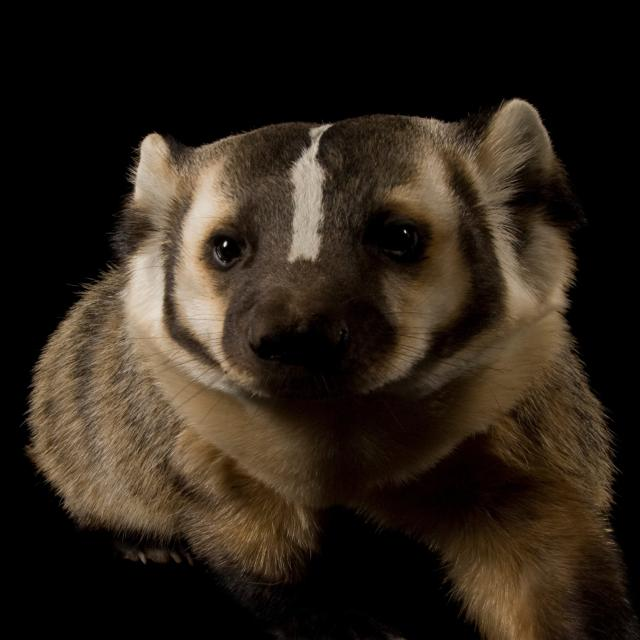Badger: (25, 94, 626, 640)
